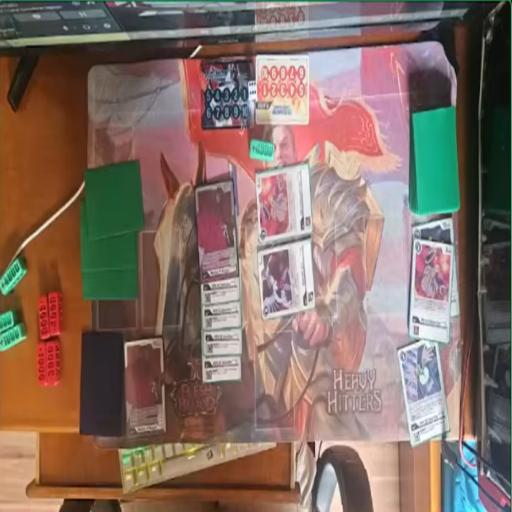card: (398, 334, 452, 442), (258, 238, 316, 321), (408, 245, 456, 345), (257, 159, 311, 244), (122, 337, 166, 438), (195, 177, 236, 284), (410, 214, 456, 256), (201, 272, 243, 307), (202, 299, 242, 332), (200, 328, 244, 356), (200, 352, 241, 382)
